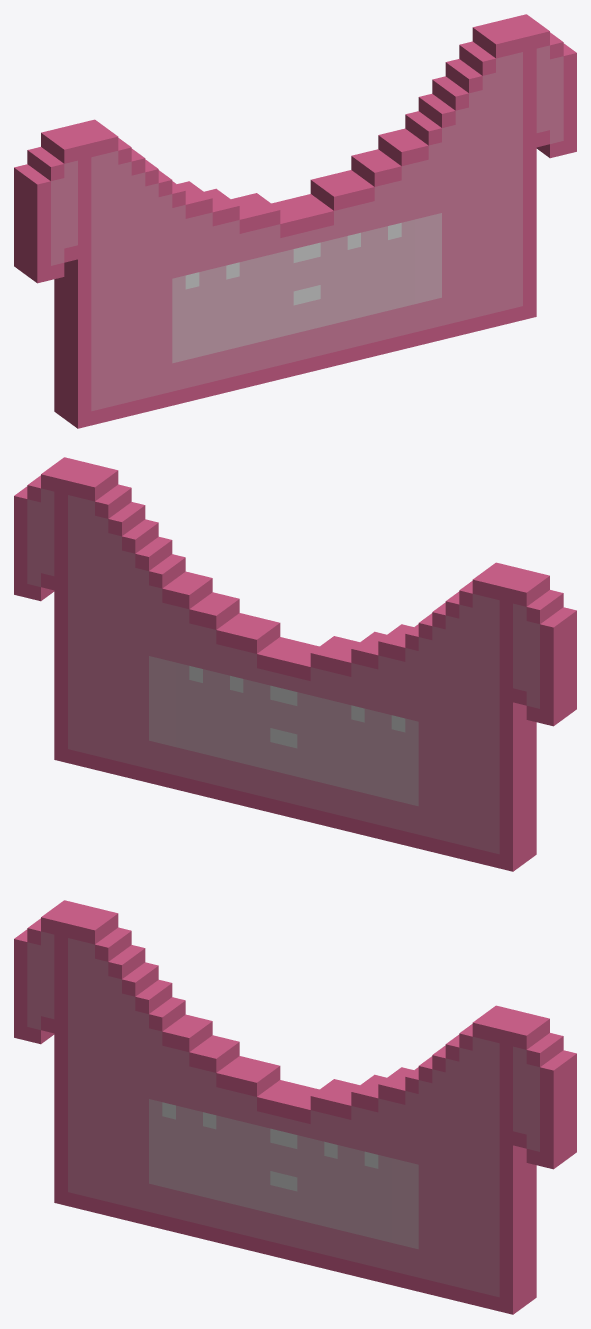
3 views of the same model, one above another, from view 1: azimuth 30°, elevation 25°; view 2: azimuth 150°, elevation 25°; view 3: azimuth 330°, elevation 25° (orthographic).
Parts seen in each view (by area): view 1: wearable_162; view 2: wearable_162; view 3: wearable_162.
Part boxes in pixels (bbox=[...]): wearable_162: bbox=[14, 14, 576, 428]; wearable_162: bbox=[14, 457, 576, 871]; wearable_162: bbox=[14, 900, 576, 1314].
Bounding box in the file's own units: 2 × 1 × 0.15.
